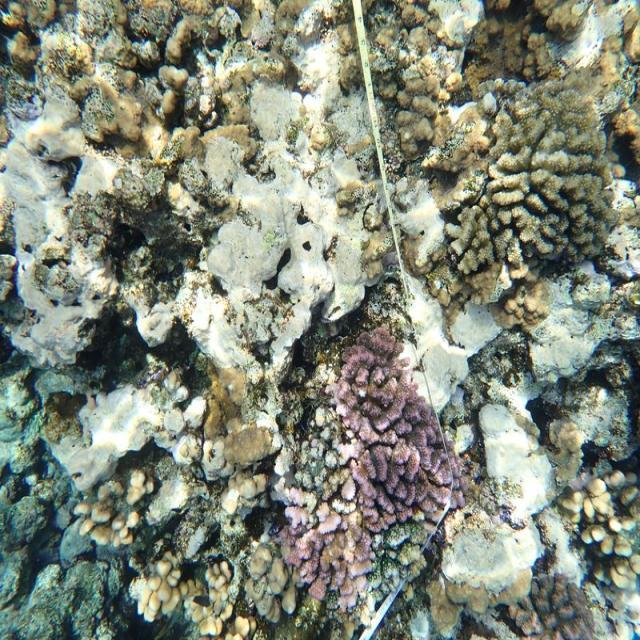Bleached Coral: (211, 108, 366, 360), (441, 388, 574, 620), (0, 81, 132, 245), (61, 367, 193, 479), (285, 396, 352, 527)
Healthy Coral: (347, 303, 444, 540), (505, 70, 605, 285)
